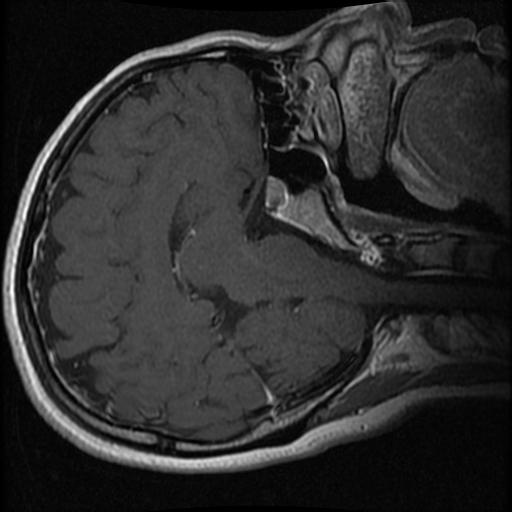pituitary tumour: (264, 178, 286, 211)
